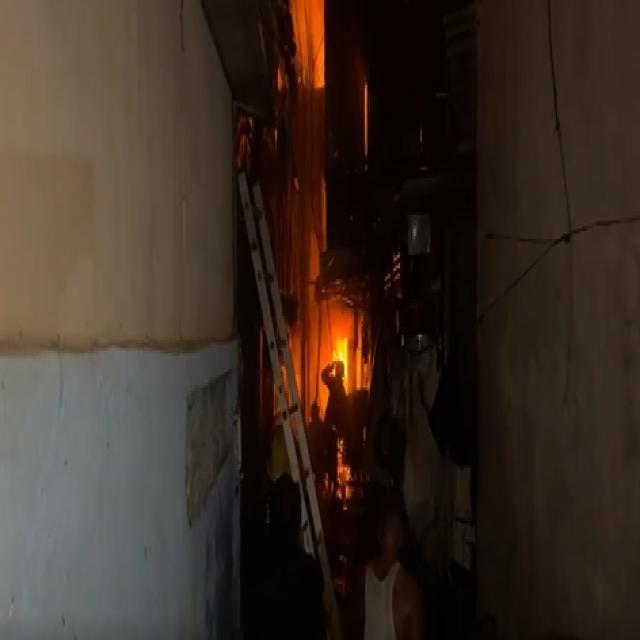Fire: (326, 304, 356, 370)
Smoke: (294, 9, 376, 271)
